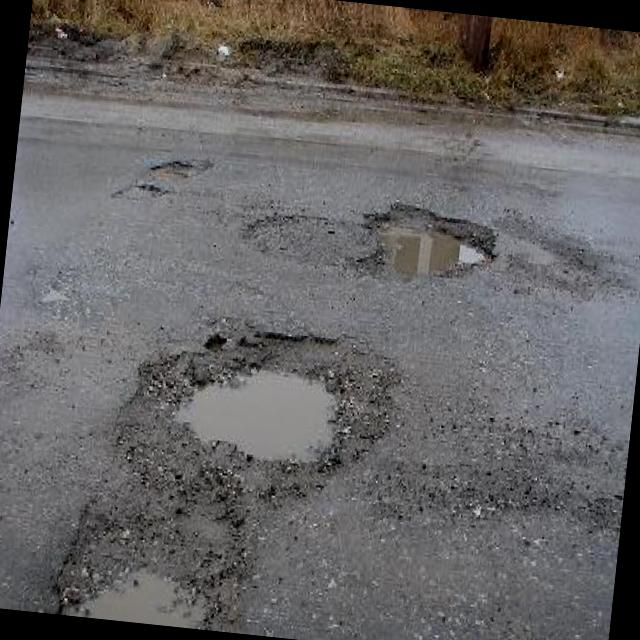Lubang: (107, 330, 401, 529), (61, 507, 243, 629), (358, 204, 496, 278), (145, 158, 212, 178), (111, 180, 169, 197)
